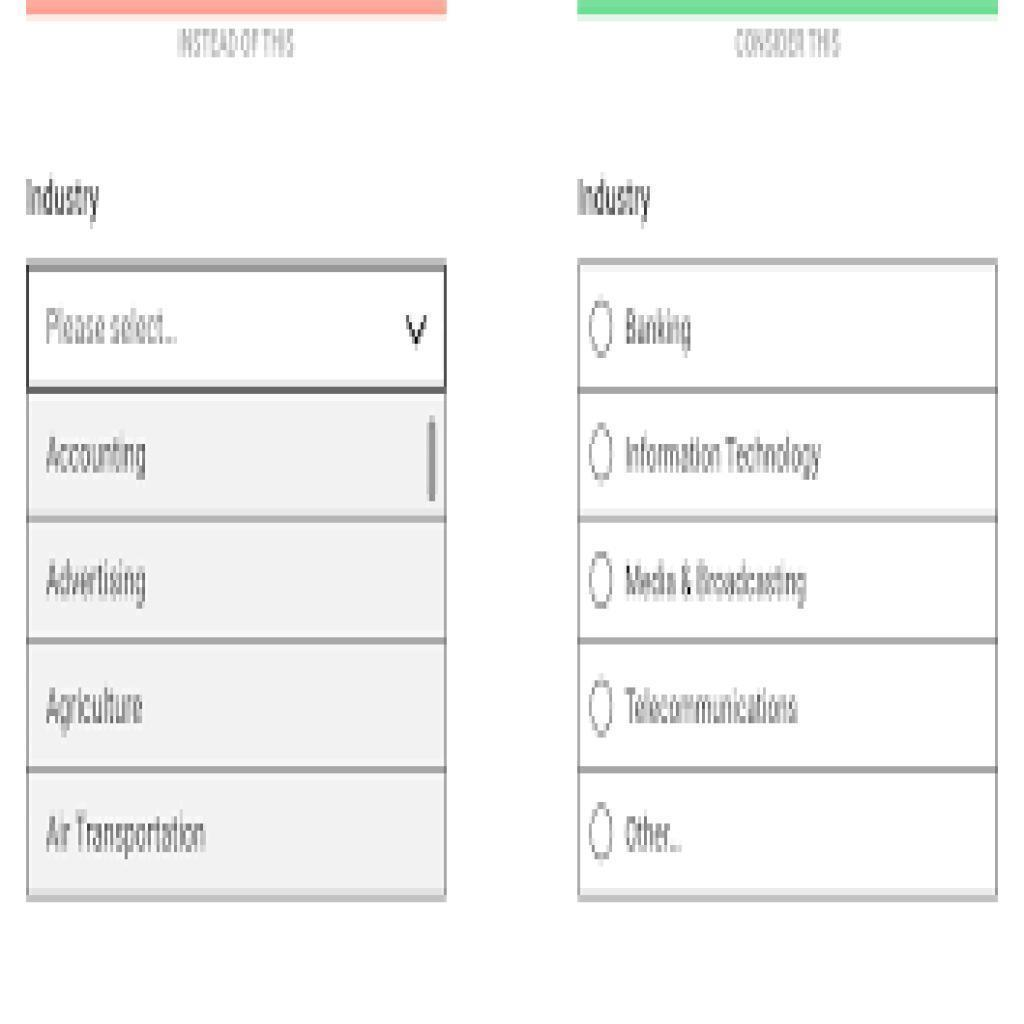dropdown: (26, 258, 450, 394)
radio: (585, 292, 619, 362), (585, 419, 617, 484), (587, 552, 617, 613), (587, 803, 617, 863), (590, 674, 618, 738)
